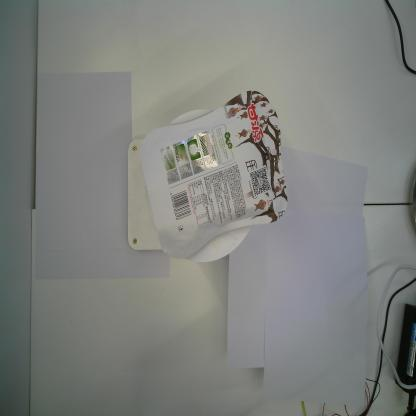Dried Fruit: (139, 90, 288, 260)
